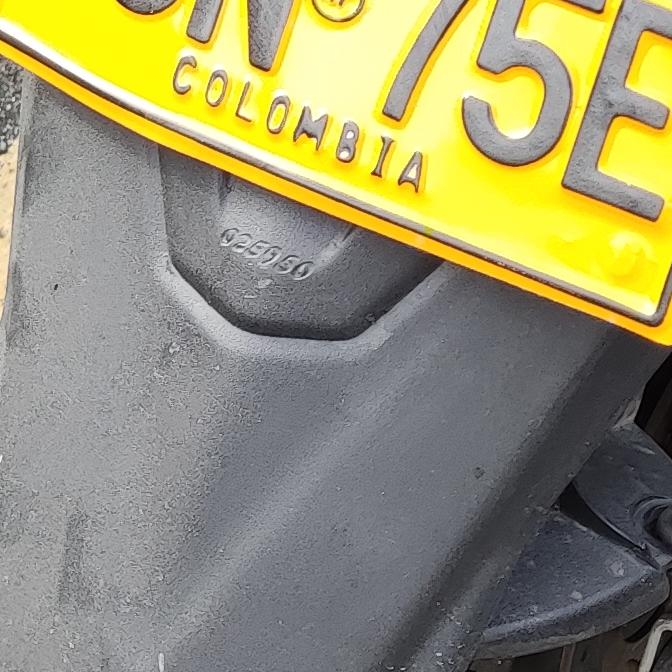plates: (0, 0, 672, 359)
